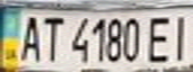0: (121, 15, 145, 63)
1: (87, 15, 109, 63)
4: (66, 14, 90, 63)
8: (106, 15, 127, 63)
A: (15, 12, 45, 62)
E: (145, 12, 175, 63)
I: (166, 11, 193, 62)
T: (36, 12, 66, 62)
